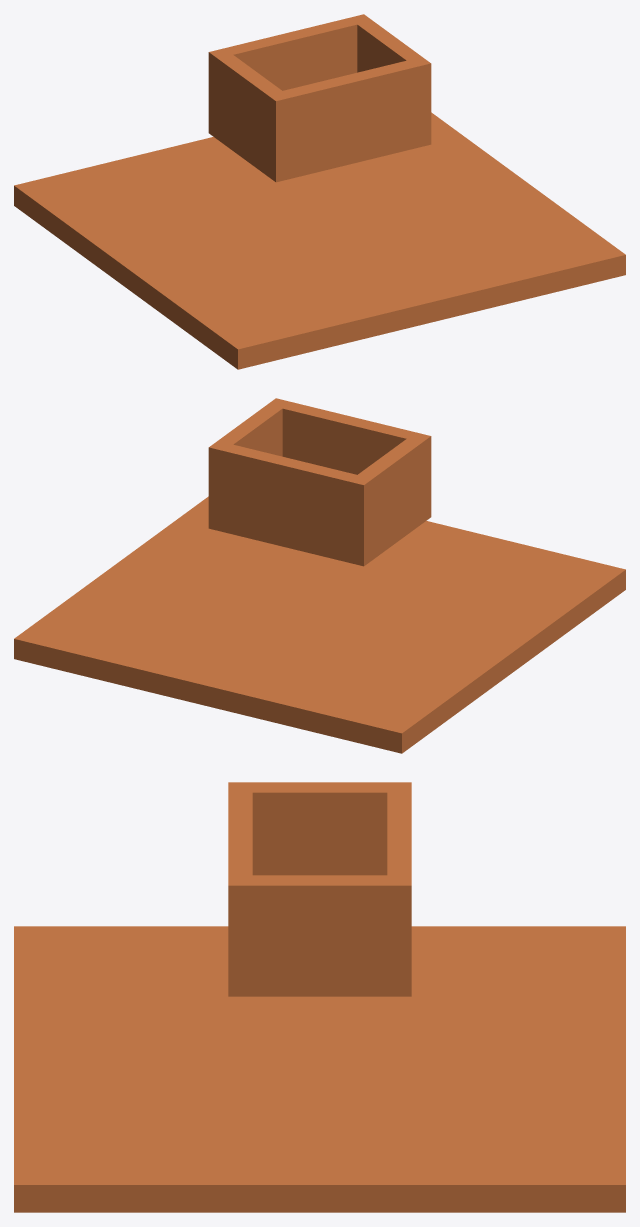
3 renders of one model, top to bottom at view 1: azimuth 30°, elevation 25°; view 2: azimuth 150°, elevation 25°; view 3: azimuth 270°, elevation 25°, orthographic. The views are drawn at different scales.
Parts seen in each view (by area): view 1: part; view 2: part; view 3: part.
Part boxes in pixels (box(x1,y1,x2,y2)): part: box(14, 14, 625, 369); part: box(14, 398, 625, 753); part: box(14, 782, 625, 1212).
Size of the model in its own units: 100 by 45 by 100.
